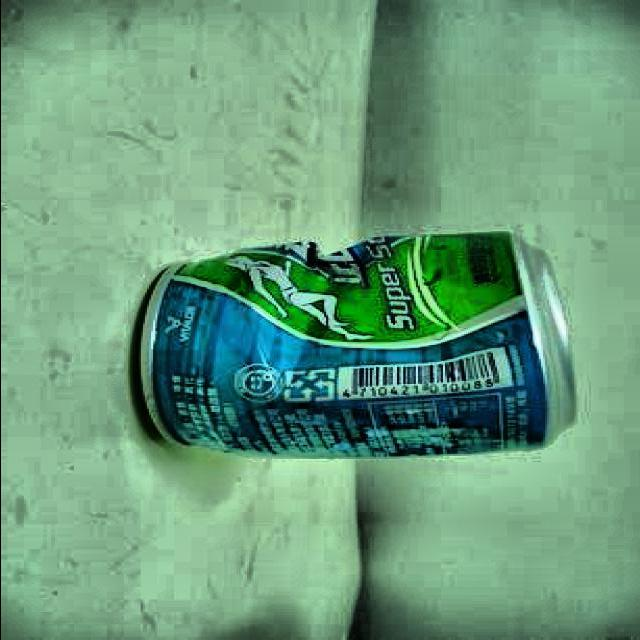litter: (124, 222, 590, 464)
